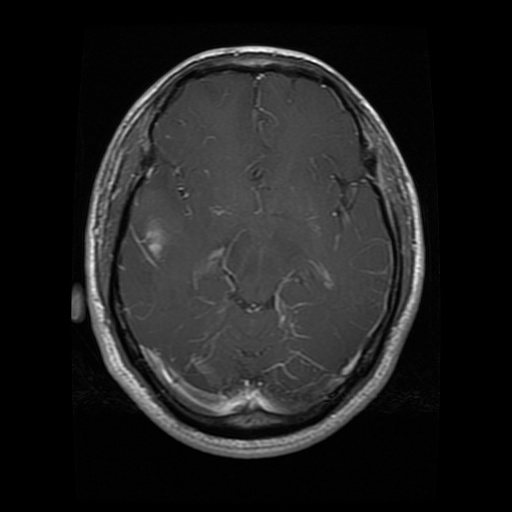glioma: (130, 212, 172, 270)
